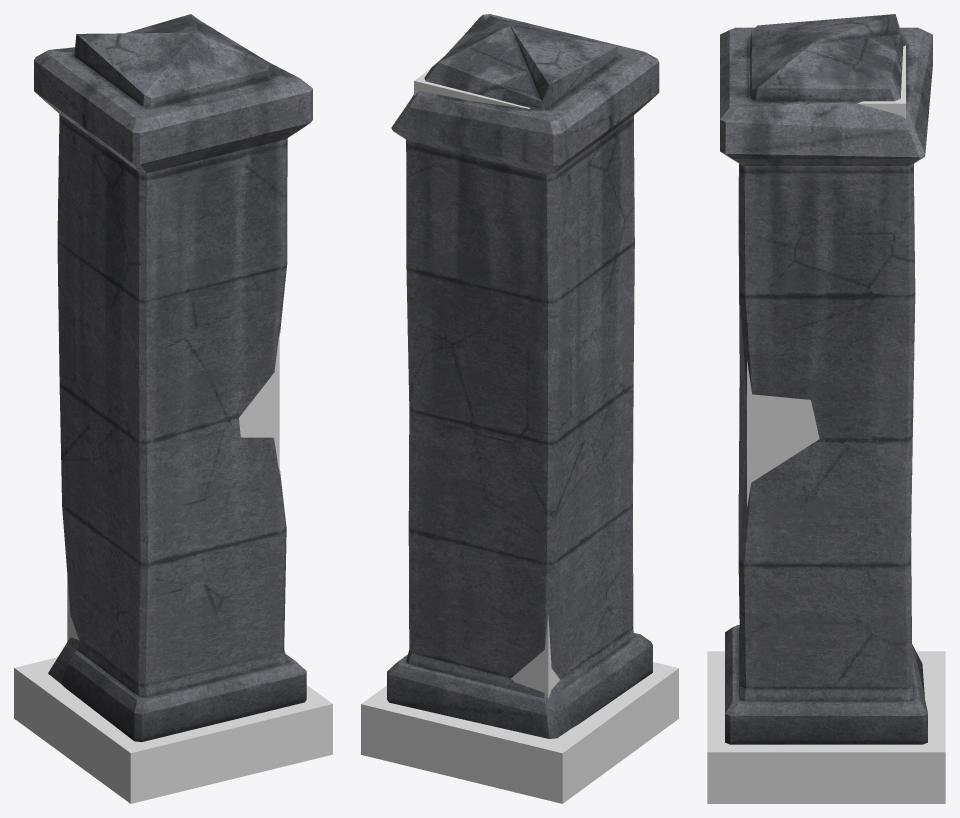
Rendered from pillar_square.low.webp.glb.
3 renders of one model, left to right at view 1: azimuth 30°, elevation 25°; view 2: azimuth 150°, elevation 25°; view 3: azimuth 270°, elevation 25°, orthographic. The views are drawn at different scales.
Parts seen in each view (by area): view 1: FRAC_3.L1, FRAC_0.L1, FRAC_1.L1, FRAC_2.L1, COL, FRAC_4.L1; view 2: FRAC_0.L1, FRAC_1.L1, FRAC_4.L1, FRAC_2.L1, COL, FRAC_3.L1; view 3: FRAC_4.L1, FRAC_2.L1, FRAC_1.L1, FRAC_0.L1, COL, FRAC_3.L1.
Part boxes in pixels (x1=…): FRAC_3.L1: x1=60, y1=452, x2=306, y2=742; FRAC_0.L1: x1=43, y1=99, x2=287, y2=359; FRAC_1.L1: x1=58, y1=295, x2=282, y2=524; FRAC_2.L1: x1=34, y1=14, x2=312, y2=170; COL: x1=14, y1=331, x2=332, y2=803; FRAC_4.L1: x1=48, y1=450, x2=289, y2=683; FRAC_0.L1: x1=406, y1=109, x2=640, y2=353; FRAC_1.L1: x1=407, y1=302, x2=634, y2=507; FRAC_4.L1: x1=387, y1=475, x2=571, y2=738; FRAC_2.L1: x1=391, y1=14, x2=659, y2=168; COL: x1=361, y1=69, x2=678, y2=803; FRAC_3.L1: x1=557, y1=466, x2=652, y2=728; FRAC_4.L1: x1=742, y1=507, x2=927, y2=744; FRAC_2.L1: x1=720, y1=14, x2=932, y2=187; FRAC_1.L1: x1=739, y1=287, x2=914, y2=525; FRAC_0.L1: x1=738, y1=171, x2=915, y2=338; COL: x1=707, y1=45, x2=945, y2=803; FRAC_3.L1: x1=725, y1=456, x2=772, y2=744.
Size of what is drawn, in the model's own units: 1.5 by 5 by 1.5.
1 material, 1 textured.
